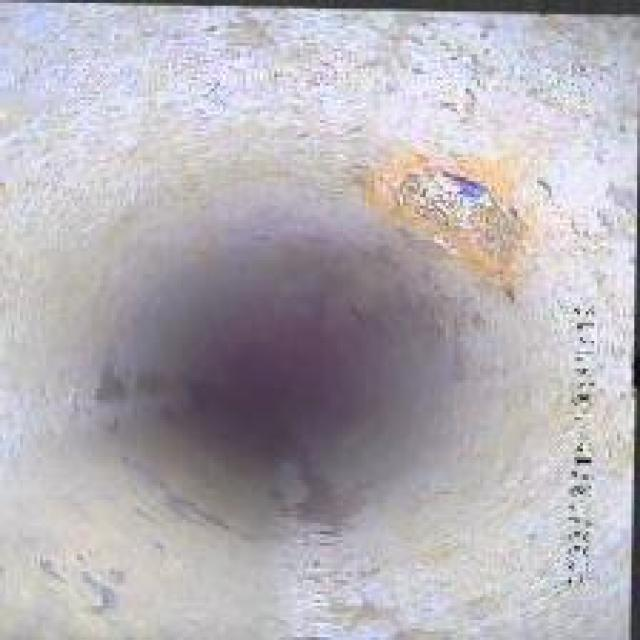ferrule: (380, 154, 537, 274)
